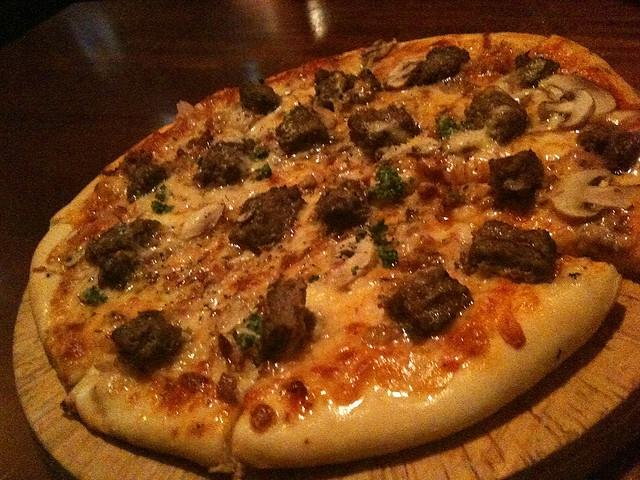broccoli: (367, 160, 408, 203), (234, 314, 262, 350), (434, 108, 460, 140), (77, 284, 109, 308), (366, 220, 392, 246), (378, 244, 398, 269), (250, 162, 272, 180), (150, 200, 174, 214)
mushroom: (552, 169, 632, 226), (538, 74, 617, 123), (329, 230, 377, 290), (538, 88, 596, 132), (177, 199, 225, 241), (387, 58, 422, 92), (64, 250, 86, 268)
